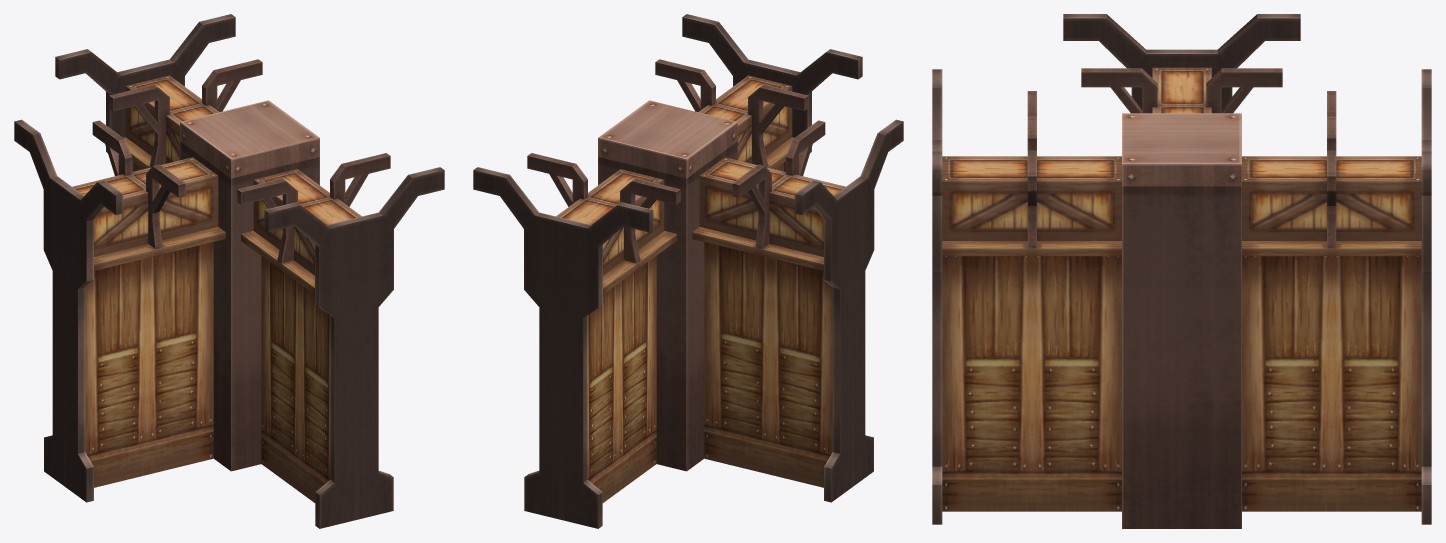
File: a_SWGuwall02g.glb
3 renders of one model, left to right at view 1: azimuth 30°, elevation 25°; view 2: azimuth 150°, elevation 25°; view 3: azimuth 270°, elevation 25°, orthographic. The views are drawn at different scales.
Parts seen in each view (by area): view 1: a_SWGuwall02g; view 2: a_SWGuwall02g; view 3: a_SWGuwall02g.
Part boxes in pixels (x1,y1,x2,y2): a_SWGuwall02g: (14, 14, 444, 528); a_SWGuwall02g: (473, 14, 903, 528); a_SWGuwall02g: (932, 14, 1431, 528).
Size of the model in its own units: 3.69 by 4.25 by 5.
2 materials, 2 textured.
